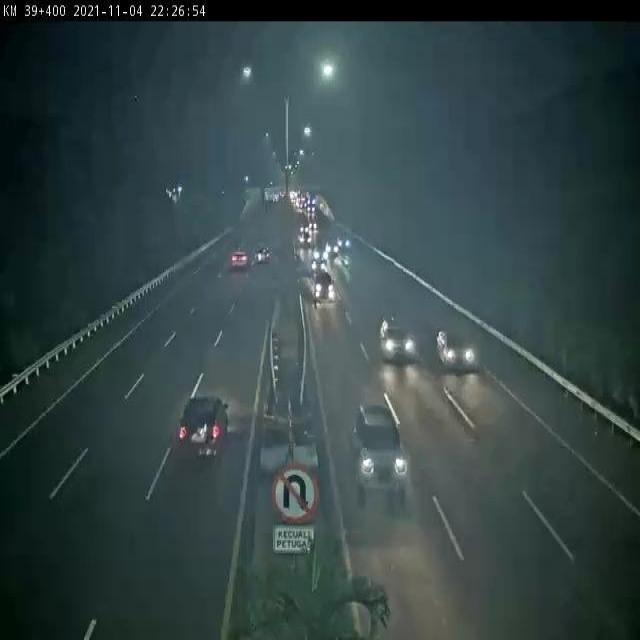car: (351, 396, 408, 507), (171, 392, 236, 455), (435, 318, 479, 386), (376, 312, 417, 372), (305, 268, 338, 311), (242, 236, 266, 272), (228, 241, 248, 267)
